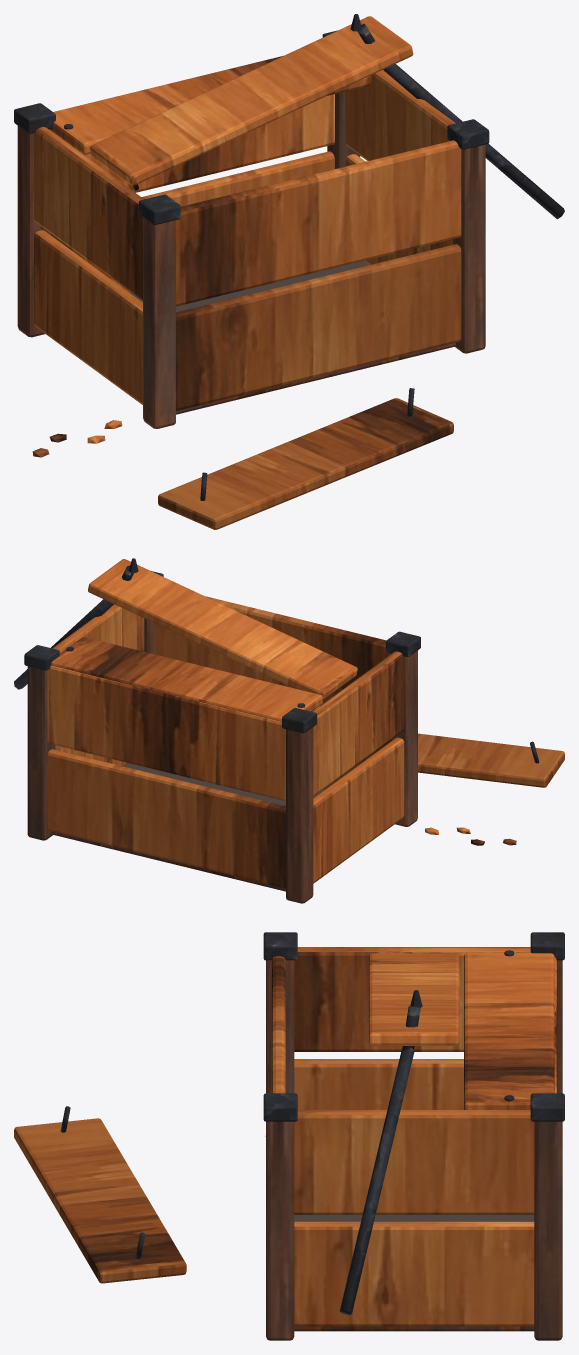
The model's file is mg_crate_pried_open.glb.
3 views of the same model, one above another, from view 1: azimuth 30°, elevation 25°; view 2: azimuth 150°, elevation 25°; view 3: azimuth 270°, elevation 25° (orthographic). The views are drawn at different scales.
Visible parts, largest first — view 1: model; view 2: model; view 3: model.
Boxes of the visible parts, x1=… form: model: x1=14, y1=14, x2=564, y2=529; model: x1=14, y1=558, x2=564, y2=903; model: x1=14, y1=932, x2=564, y2=1340.
Bounding box in the file's own units: 1.23 × 0.6183 × 0.9651.
Materials: 10 (9 with a texture image).
